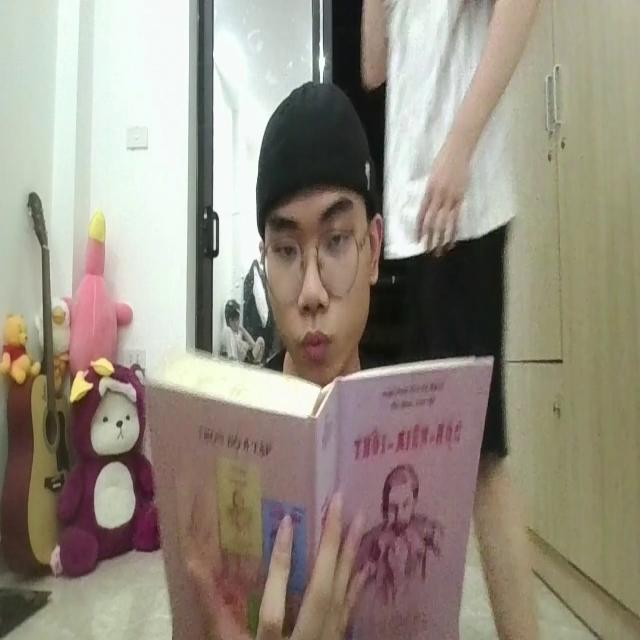book: (134, 334, 491, 640)
extra_person: (374, 5, 535, 480)
student: (240, 87, 386, 385)
